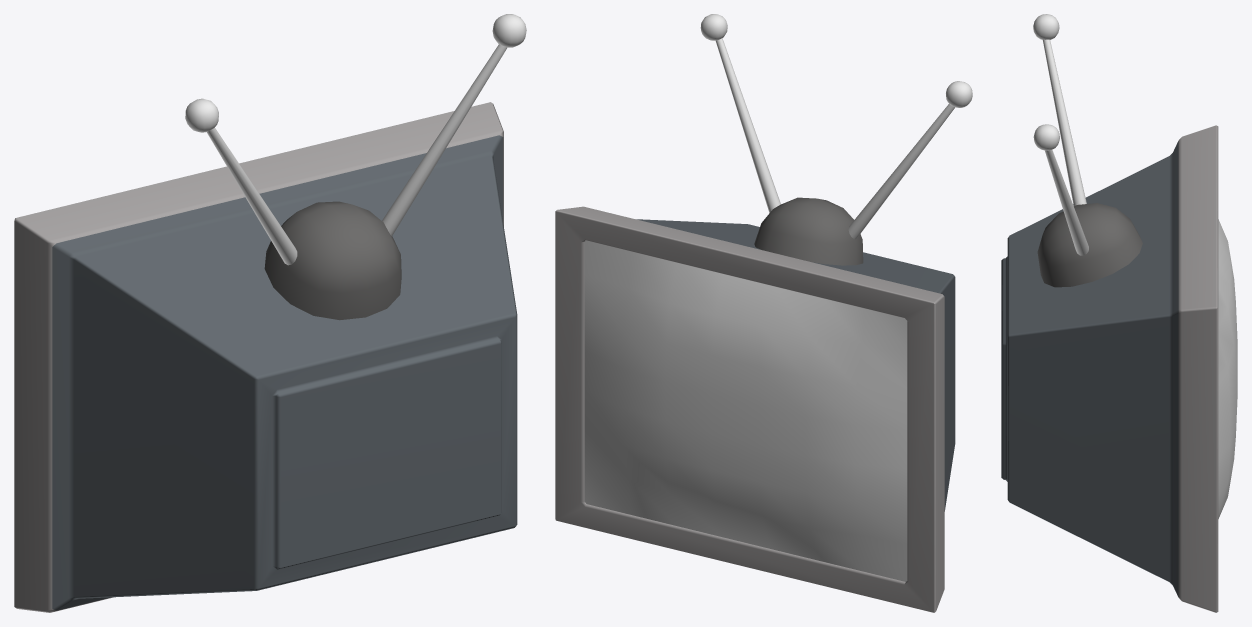
3 renders of one model, left to right at view 1: azimuth 30°, elevation 25°; view 2: azimuth 150°, elevation 25°; view 3: azimuth 270°, elevation 25°, orthographic. The views are drawn at different scales.
Parts seen in each view (by area): view 1: TV; view 2: TV; view 3: TV.
Part boxes in pixels (left/top/right/bottom): TV: left=14, top=14, right=526, bottom=612; TV: left=555, top=14, right=972, bottom=612; TV: left=1001, top=14, right=1237, bottom=612.
Bounding box in the file's own units: 216 × 249 × 117.
